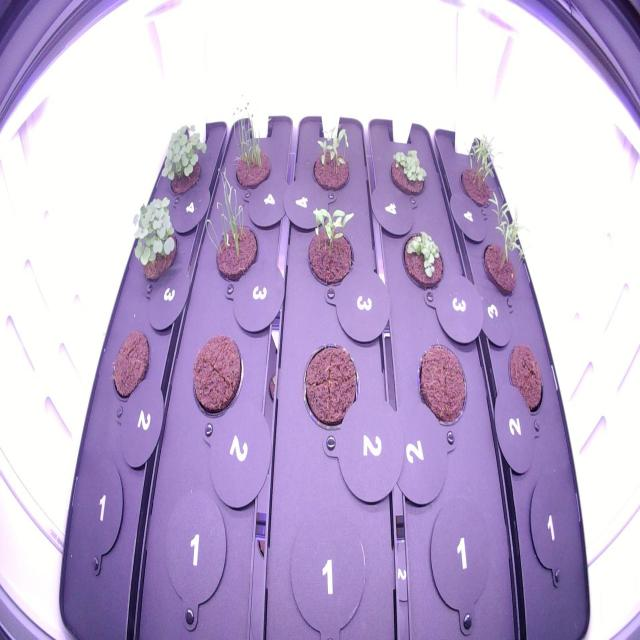empty_pod: (286, 501, 372, 636), (425, 494, 498, 623), (157, 484, 230, 604), (524, 468, 579, 584), (74, 454, 131, 561)
germination: (198, 163, 264, 293), (474, 190, 540, 306), (299, 194, 363, 298), (220, 86, 276, 202), (300, 112, 358, 203), (128, 193, 180, 289), (449, 127, 505, 215), (156, 113, 210, 203), (395, 223, 446, 300), (387, 143, 432, 201)
pod: (298, 333, 364, 441), (182, 327, 248, 426), (410, 333, 472, 434), (502, 335, 550, 428), (105, 321, 154, 409)
